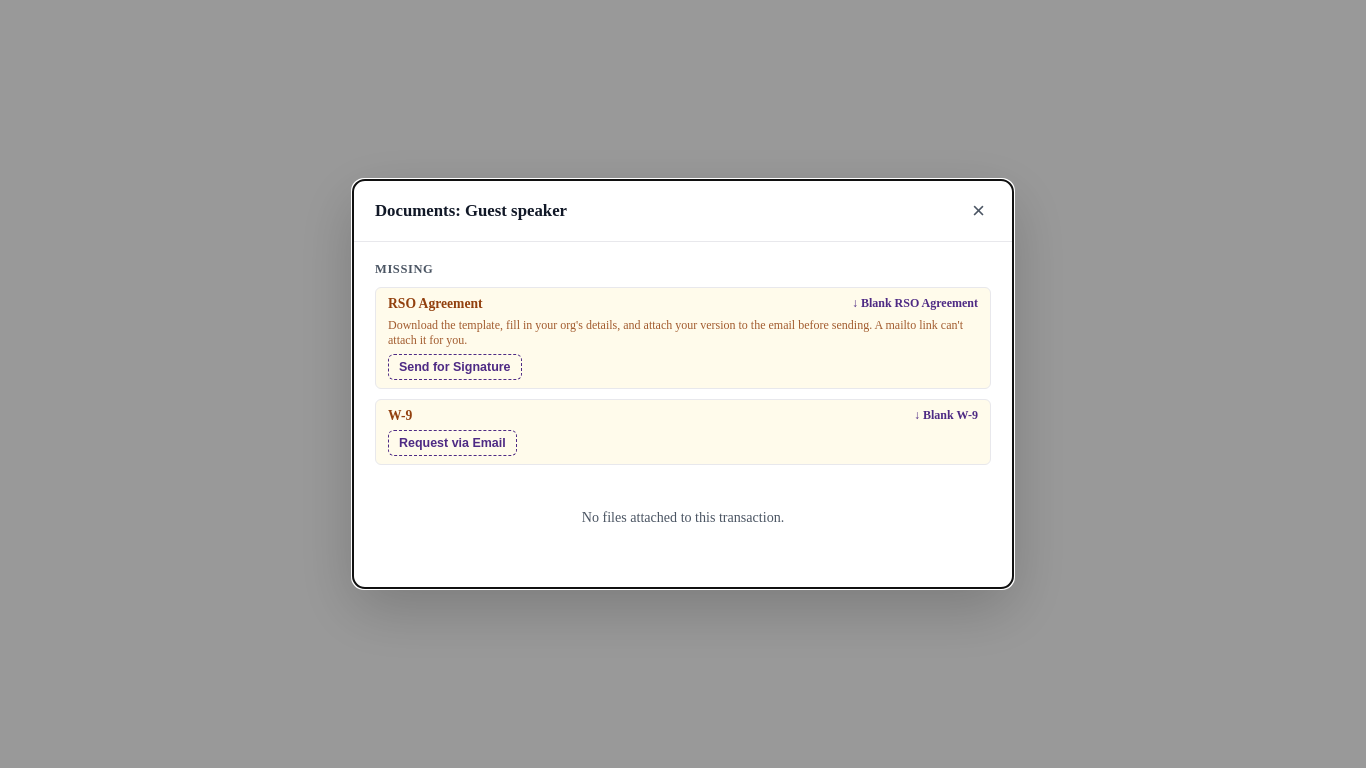
Test: TransactionFilesModal › missing documents › clicking "Request via Email" on a simple document mints a token and opens a mail compose window
This screenshot has width=1366, height=768.
Click the button "Request via Email": [452, 443] box [388,430,517,456]
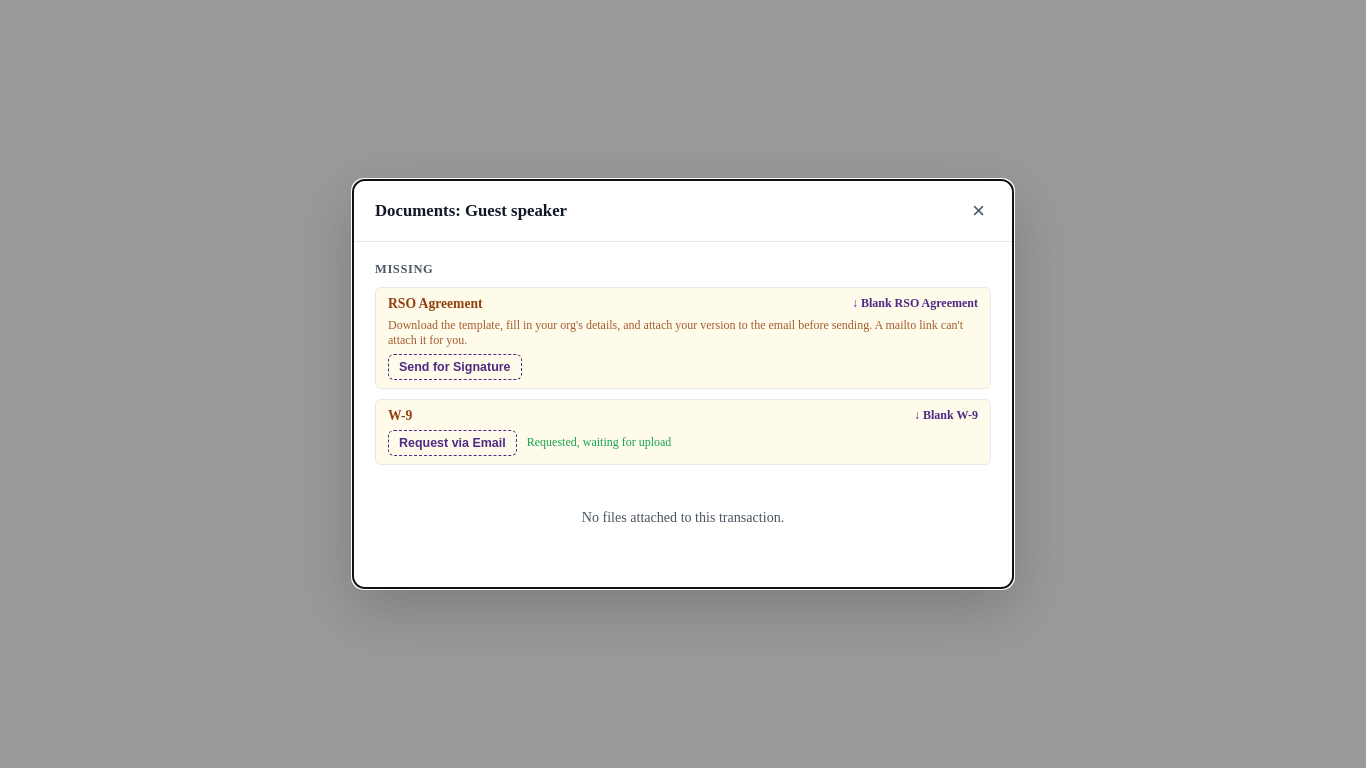
Expected: the text "Requested, waiting for upload" is shown, [527,435,671,450]
